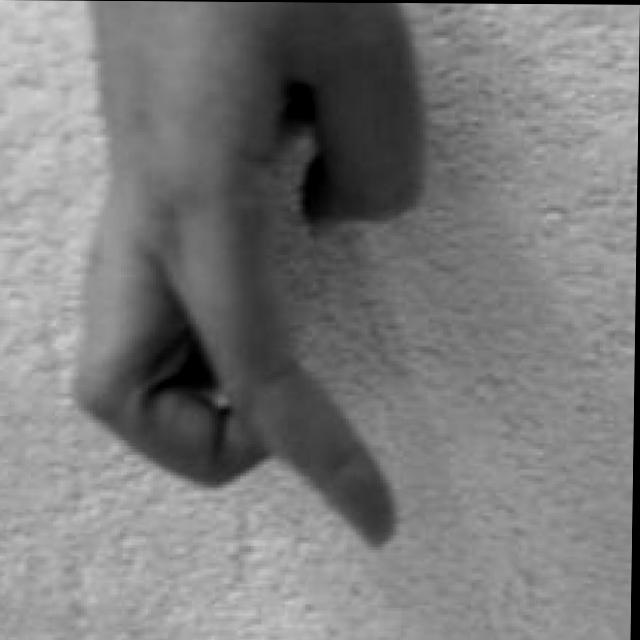P: (64, 1, 428, 559)
